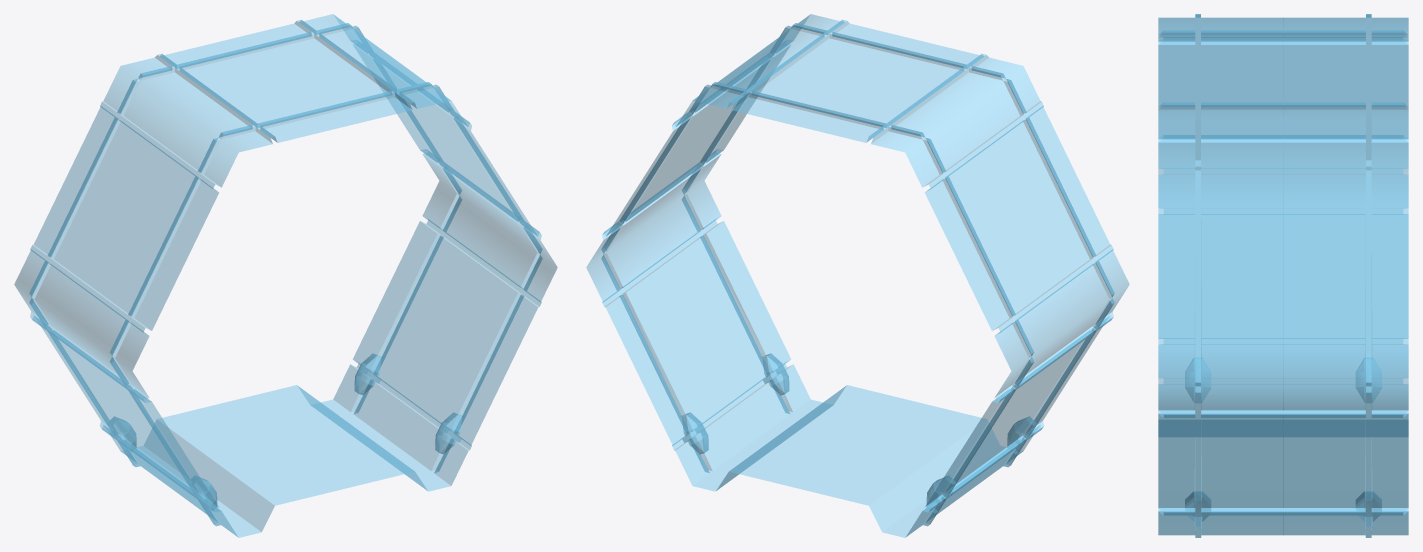
The picture shows the model from 3 angles, left to right: view 1: azimuth 30°, elevation 25°; view 2: azimuth 150°, elevation 25°; view 3: azimuth 270°, elevation 25°; orthographic projection. The views are drawn at different scales.
Parts seen in each view (by area): view 1: Parts007-002; view 2: Parts007-002; view 3: Parts007-002.
Boxes of the visible parts, x1,y1,x2,y2 form: Parts007-002: (14, 14, 557, 537); Parts007-002: (586, 14, 1129, 537); Parts007-002: (1158, 14, 1408, 537).
Size of the model in its own units: 489 by 424 by 233.
